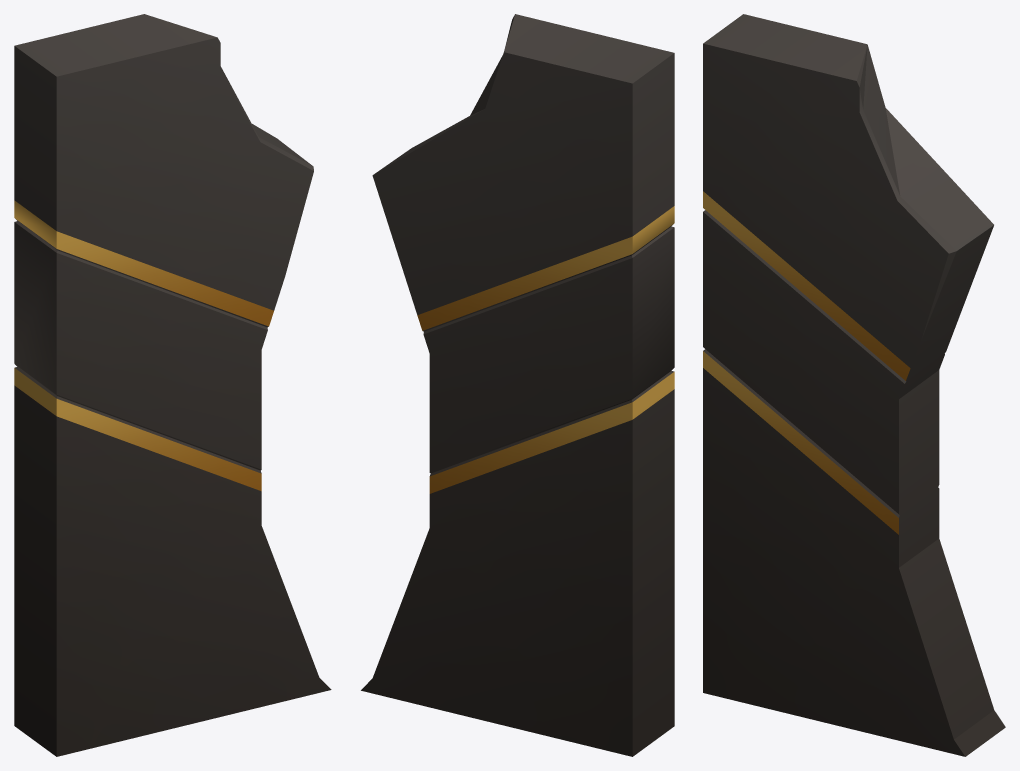
Rendered from ruine_plaque2_01_casse.FBX.
3 renders of one model, left to right at view 1: azimuth 30°, elevation 25°; view 2: azimuth 150°, elevation 25°; view 3: azimuth 330°, elevation 25°, orthographic. The views are drawn at different scales.
Parts seen in each view (by area): view 1: ruine_plaque2_01_casse; view 2: ruine_plaque2_01_casse; view 3: ruine_plaque2_01_casse.
Part boxes in pixels (<box>): ruine_plaque2_01_casse: <box>14,14,331,756</box>; ruine_plaque2_01_casse: <box>361,14,674,756</box>; ruine_plaque2_01_casse: <box>703,14,1005,756</box>.
Size of the model in its own units: 2.89 by 6.83 by 0.7705.
